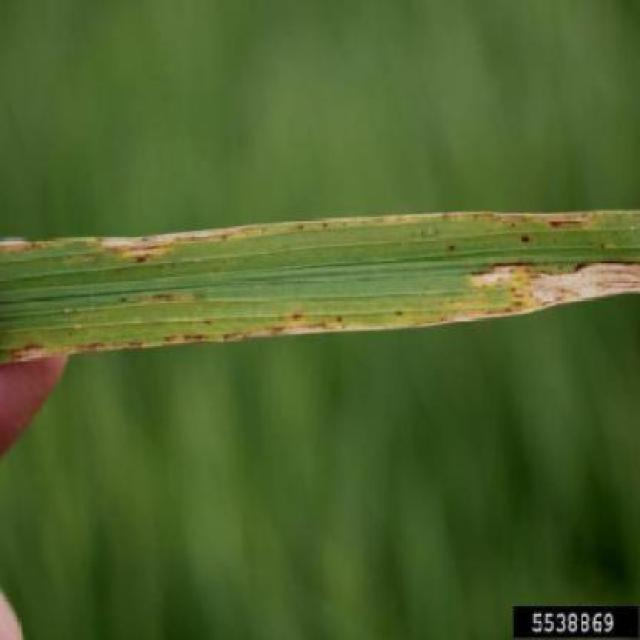Brown_Spot: (0, 198, 631, 318)
